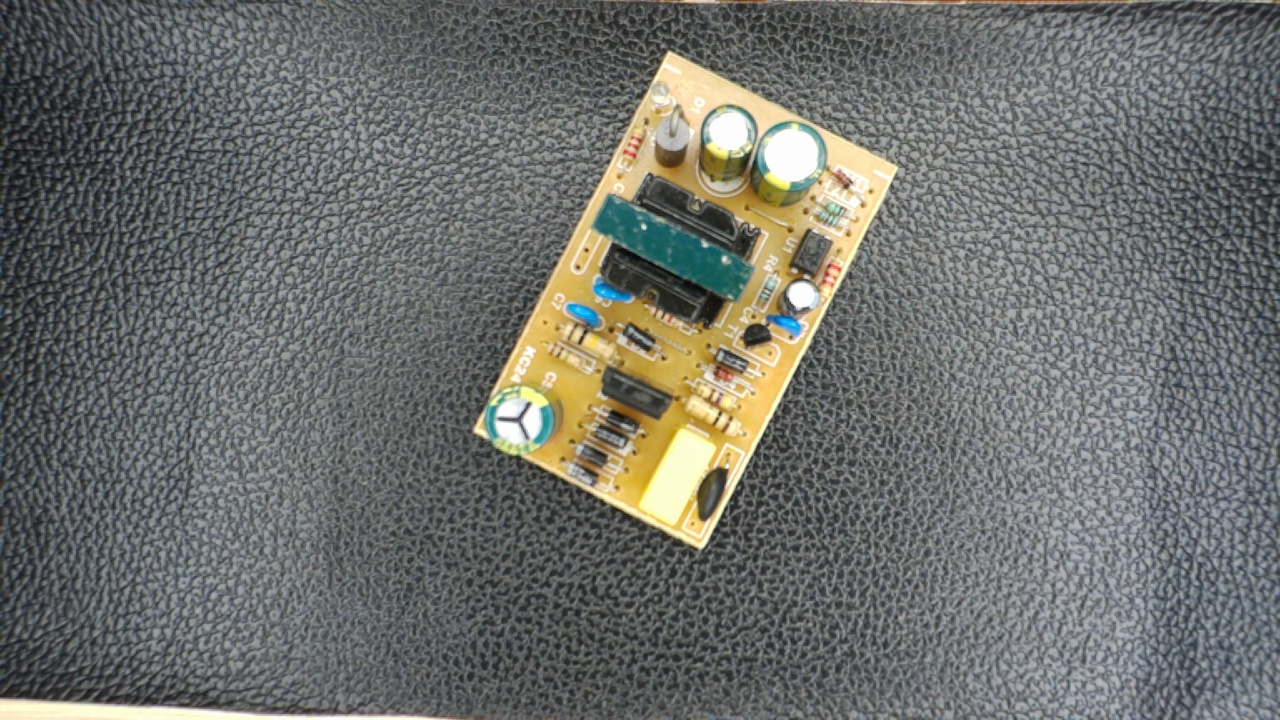fuse: (689, 446, 737, 531)
hv_capacitor: (479, 383, 566, 456)
optocoupler: (785, 221, 833, 282)
